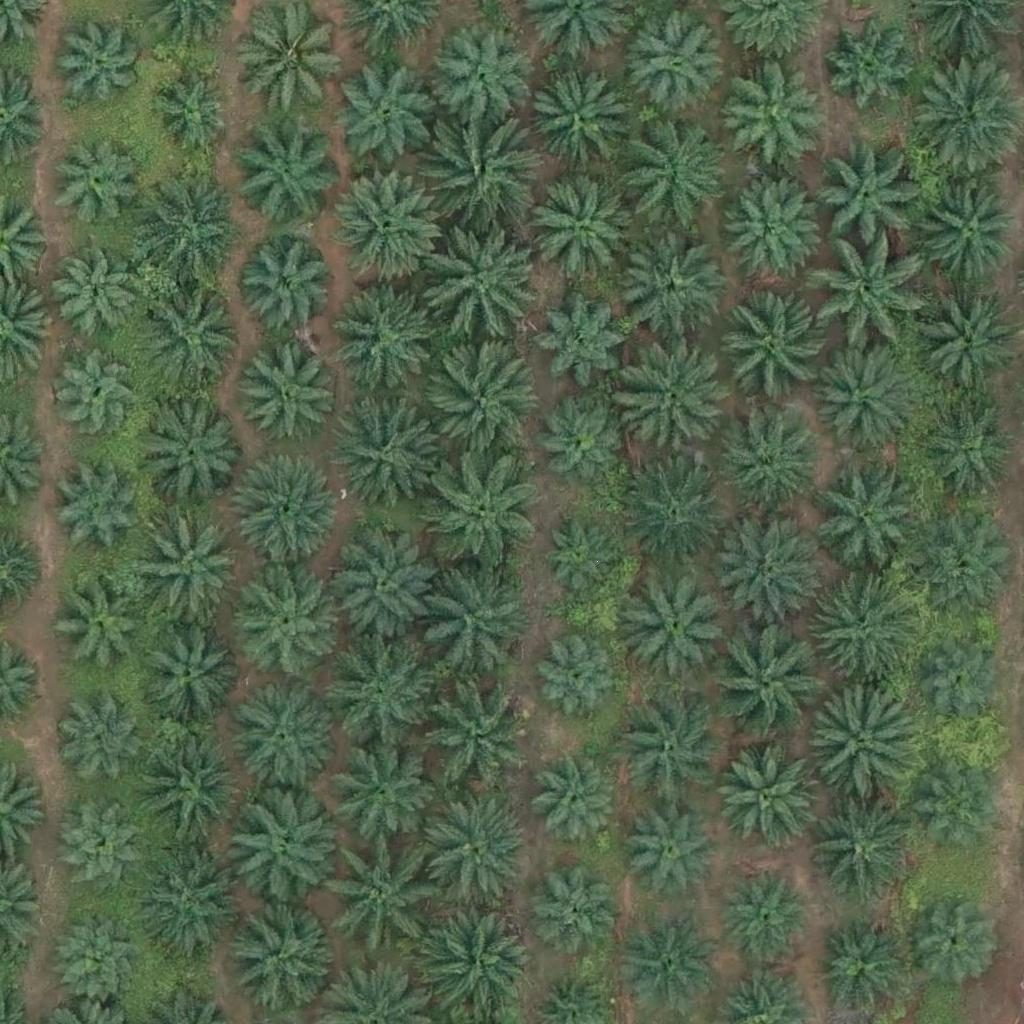Kelapa_Sawit: (613, 236, 726, 350), (331, 393, 444, 507), (423, 792, 536, 905), (219, 796, 332, 909), (806, 342, 919, 455), (810, 459, 923, 572), (803, 575, 916, 688), (716, 289, 829, 402), (421, 119, 534, 232), (430, 348, 543, 461), (324, 529, 437, 642), (331, 283, 444, 396), (228, 120, 341, 233), (230, 455, 343, 568), (136, 517, 249, 630), (134, 275, 247, 388), (135, 175, 248, 288), (911, 179, 1023, 293), (720, 741, 832, 855), (425, 453, 537, 567), (134, 731, 246, 845), (806, 802, 918, 915), (332, 840, 444, 953), (217, 901, 329, 1014), (135, 849, 247, 962), (910, 64, 1022, 177), (808, 238, 920, 351), (810, 688, 922, 801), (711, 620, 823, 733), (707, 511, 819, 624), (620, 118, 732, 231), (621, 350, 733, 463), (620, 452, 732, 565), (621, 571, 733, 684), (610, 692, 722, 805), (526, 171, 638, 284), (427, 231, 539, 344), (416, 563, 528, 676), (421, 673, 533, 786), (323, 728, 435, 841), (322, 637, 434, 750), (330, 167, 442, 280), (229, 684, 341, 797), (238, 4, 350, 117), (910, 520, 1010, 621), (722, 416, 822, 517), (728, 179, 828, 280), (533, 293, 633, 394), (233, 238, 333, 339), (241, 342, 341, 443), (237, 579, 337, 680), (133, 623, 233, 724), (144, 406, 244, 507), (818, 11, 918, 112), (717, 61, 817, 162), (626, 10, 726, 111), (523, 72, 623, 173), (432, 27, 532, 128), (332, 62, 432, 163), (623, 795, 723, 895), (920, 406, 1020, 506), (811, 150, 911, 250), (909, 902, 997, 990), (721, 869, 809, 957), (53, 915, 141, 1003), (47, 142, 135, 230), (51, 254, 139, 342), (56, 580, 144, 668), (61, 700, 149, 788), (147, 63, 235, 151), (817, 925, 904, 1013), (531, 866, 618, 954), (918, 636, 1005, 724), (914, 752, 1001, 840), (534, 754, 621, 842), (534, 630, 621, 718), (545, 397, 632, 485), (53, 351, 140, 439), (54, 470, 141, 558), (56, 805, 143, 893), (54, 17, 141, 105), (543, 520, 618, 596)
